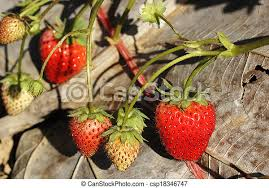ripe: (154, 94, 220, 163), (37, 31, 92, 89), (68, 106, 111, 159)
unripe: (107, 120, 142, 172), (1, 72, 39, 113), (0, 16, 25, 44)
